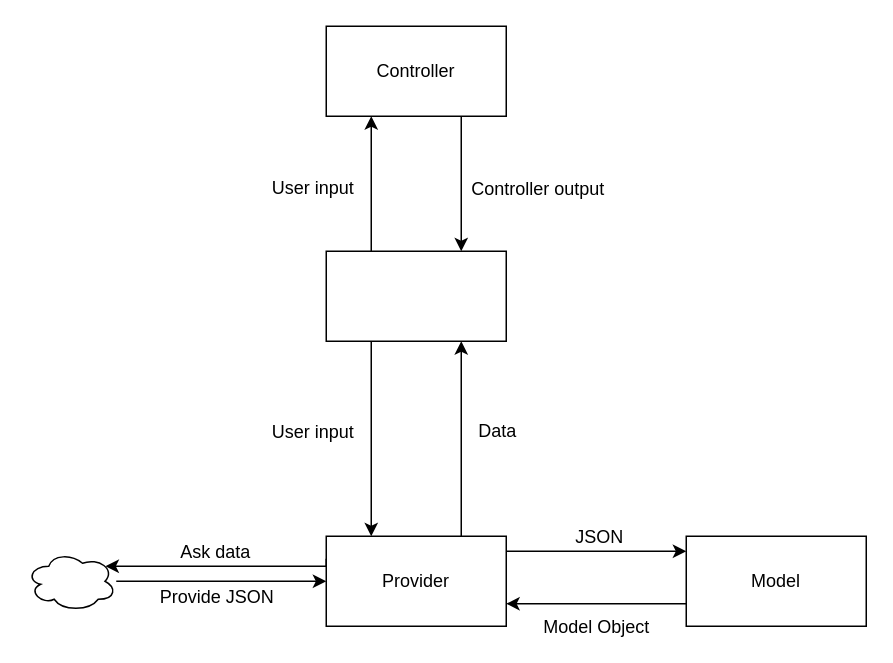
This 893x663 diagram has some shape labels left out. The centre of each missing label's shape, as x and y in pixels:
"API" goes at [70,580].
"View" goes at [415,295].
